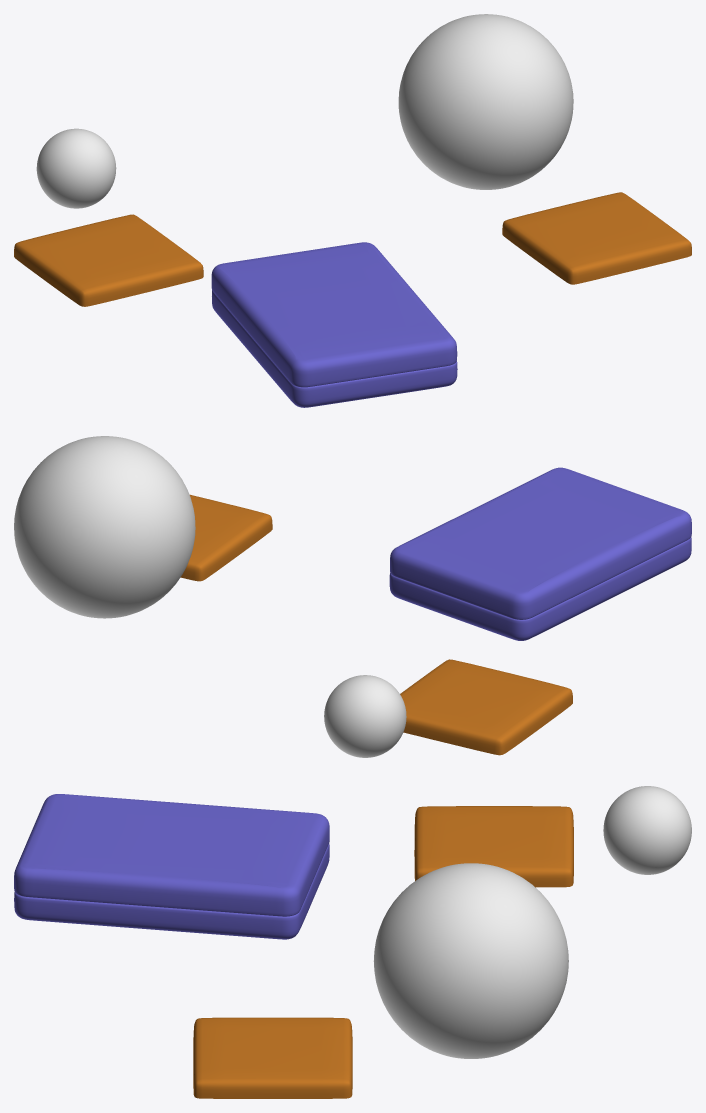
File: Laptop.glb
The picture shows the model from 3 angles, top to bottom: view 1: azimuth 30°, elevation 25°; view 2: azimuth 150°, elevation 25°; view 3: azimuth 270°, elevation 25°; orthographic projection. The views are drawn at different scales.
Visible parts, largest first — view 1: Sphere, Plane.001, Plane.006, Plane.008, Sphere.001, Plane; view 2: Plane.001, Sphere, Plane.008, Plane, Sphere.001, Plane.006; view 3: Plane.001, Sphere, Plane.006, Plane.008, Plane, Sphere.001.
Boxes of the visible parts, <box> form: Sphere: <box>398,14,573,189</box>; Plane.001: <box>211,242,457,387</box>; Plane.006: <box>502,192,691,284</box>; Plane.008: <box>14,214,203,306</box>; Sphere.001: <box>36,128,116,208</box>; Plane: <box>212,290,457,407</box>; Plane.001: <box>390,467,691,619</box>; Sphere: <box>14,436,195,618</box>; Plane.008: <box>400,659,572,755</box>; Plane: <box>389,537,691,640</box>; Sphere.001: <box>324,675,406,757</box>; Plane.006: <box>180,494,272,581</box>; Plane.001: <box>14,794,329,916</box>; Sphere: <box>373,863,568,1058</box>; Plane.006: <box>193,1017,352,1098</box>; Plane.008: <box>414,806,573,887</box>; Plane: <box>14,843,329,939</box>; Sphere.001: <box>603,786,691,874</box>.
Size of what is drawn, in the model's own units: 2.1 by 0.6369 by 2.16.
